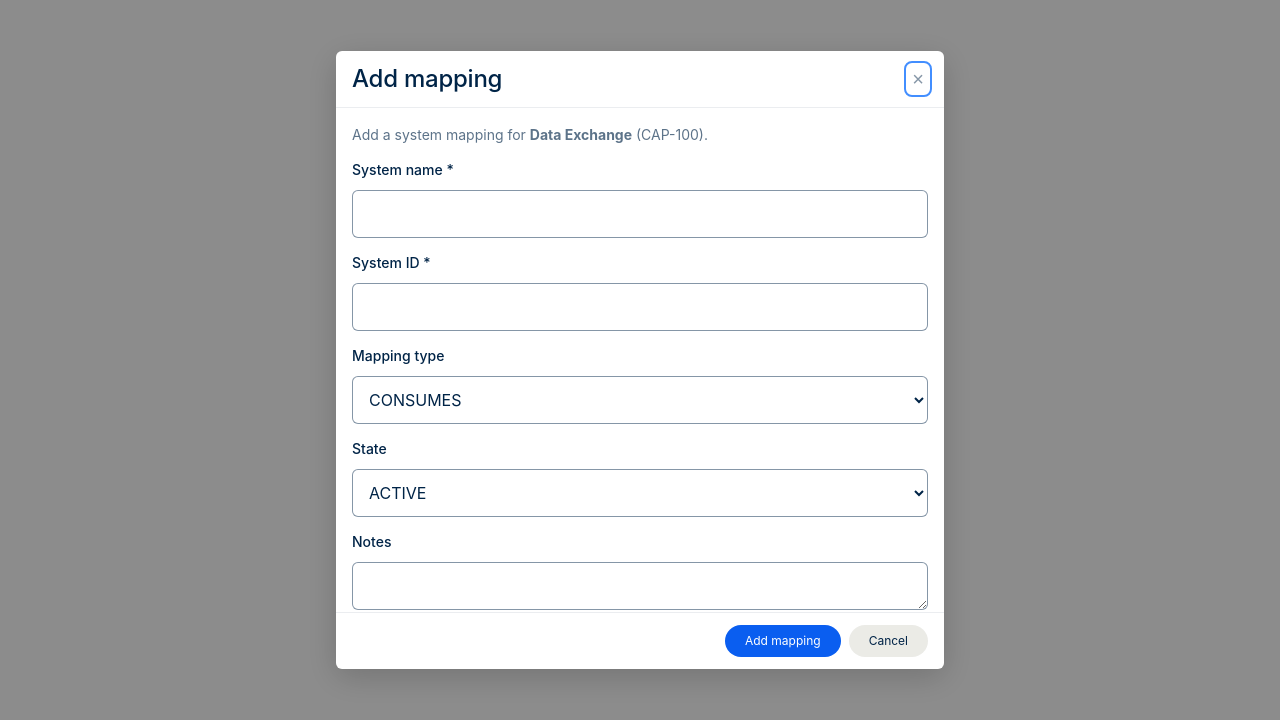
Test case: AddMappingDialog › shows a validation error when system name is empty
Type "SYS-001" into the field labelled "System ID *" at (640, 307), box left=352, top=283, right=928, bottom=331
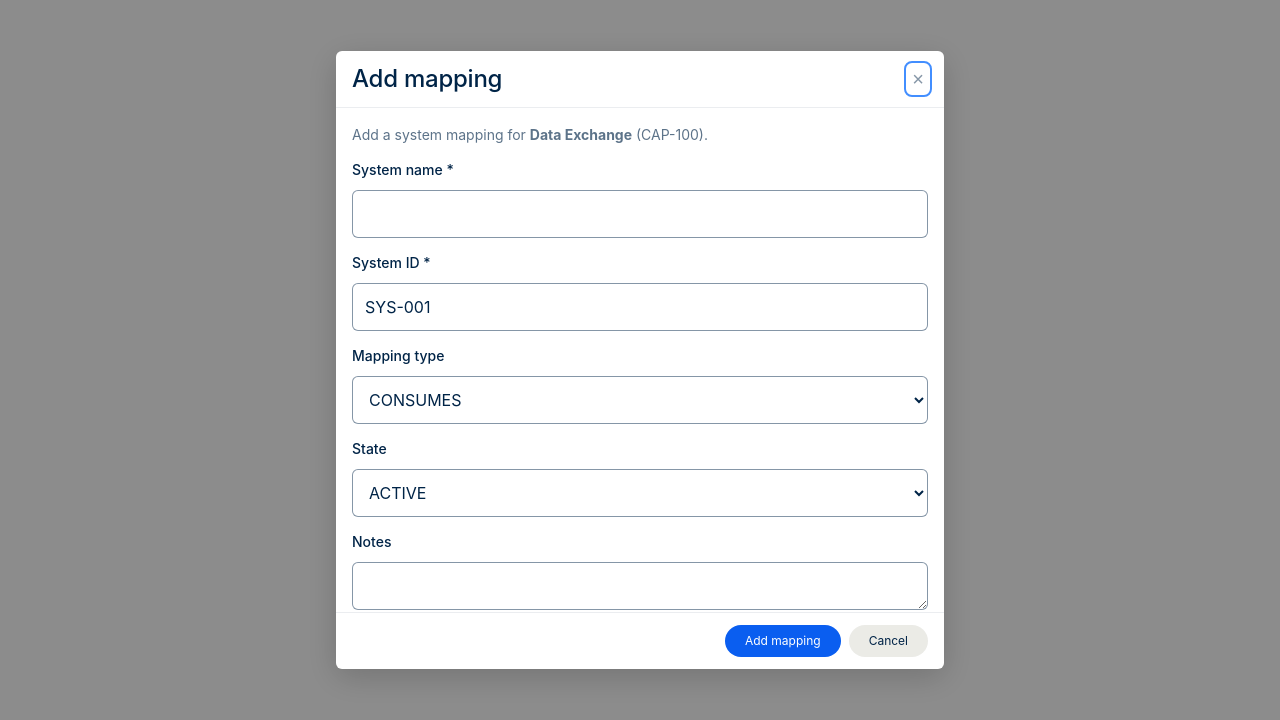
Click the button "Add mapping" at (783, 641), box left=725, top=625, right=841, bottom=657
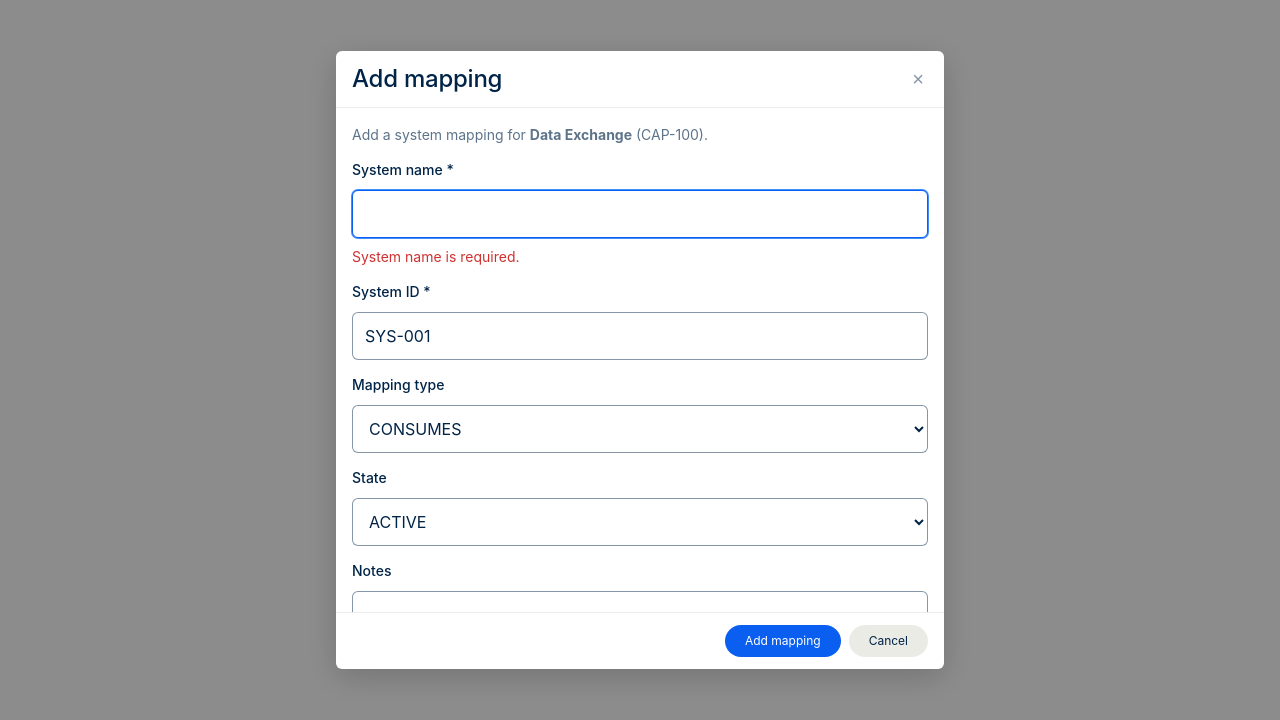
Expected: the text "System name is required." is shown, left=352, top=248, right=520, bottom=265
